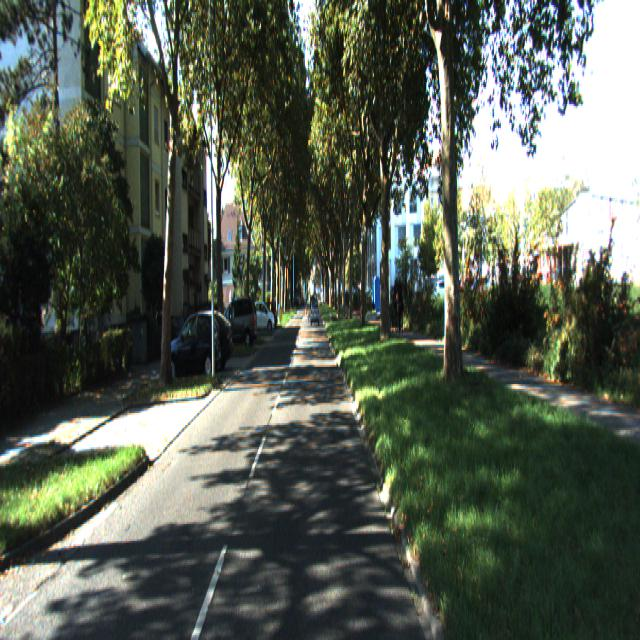Car: (164, 312, 224, 386), (216, 295, 259, 354), (251, 303, 276, 335)
